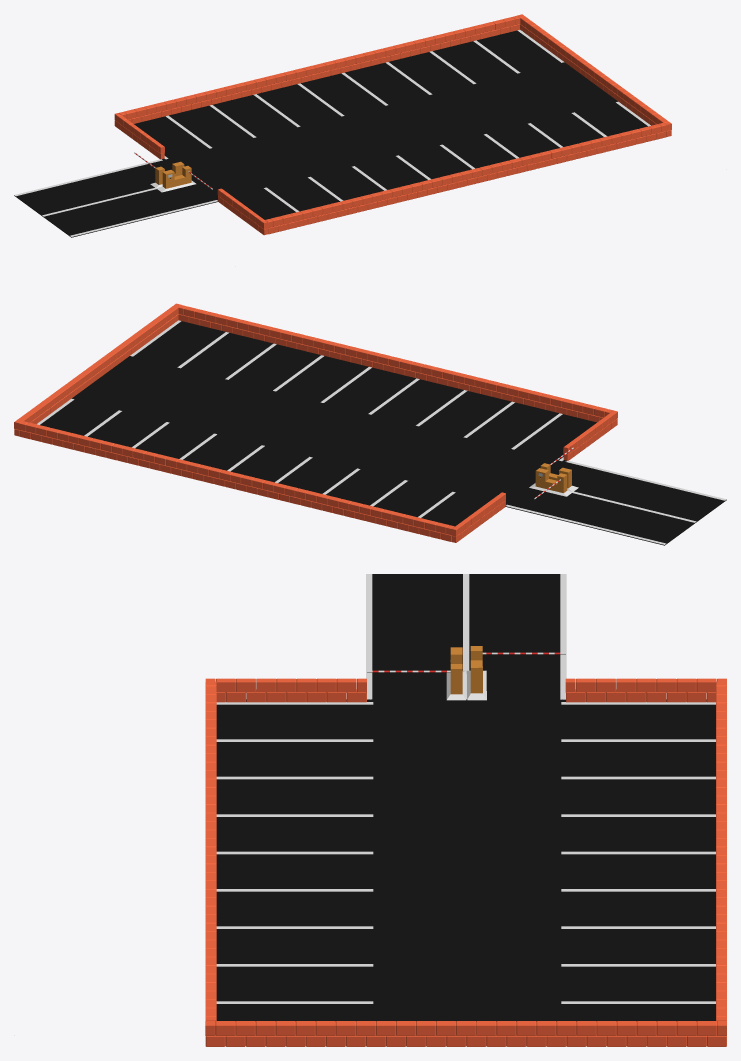
File: ParqueEstacionamento.fbx
The picture shows the model from 3 angles, top to bottom: view 1: azimuth 30°, elevation 25°; view 2: azimuth 150°, elevation 25°; view 3: azimuth 270°, elevation 25°; orthographic projection. The views are drawn at different scales.
Visible parts, largest first — view 1: Cube, Cube.015, Cube.014, Cube.020, Cube.021, Cube.016, Cube.022, Cube.013, Cube.019, Cube.023; view 2: Cube, Cube.015, Cube.020, Cube.014, Cube.016, Cube.021, Cube.022, Cube.013, Cube.019, Cube.023; view 3: Cube, Cube.015, Cube.022, Cube.013, Cube.014, Cube.020, Cube.019, Cube.023, Cube.024, Cube.018.
Part boxes in pixels (left/top/right/bottom): Cube: left=134, top=30, right=650, bottom=219; Cube.015: left=14, top=159, right=217, bottom=237; Cube.014: left=265, top=122, right=666, bottom=228; Cube.020: left=119, top=15, right=520, bottom=119; Cube.021: left=268, top=131, right=666, bottom=234; Cube.016: left=128, top=24, right=519, bottom=123; Cube.022: left=517, top=14, right=671, bottom=130; Cube.013: left=520, top=24, right=671, bottom=136; Cube.019: left=114, top=113, right=164, bottom=153; Cube.023: left=217, top=188, right=267, bottom=229; Cube: left=37, top=320, right=596, bottom=526; Cube.015: left=505, top=460, right=726, bottom=545; Cube.020: left=20, top=421, right=454, bottom=535; Cube.014: left=178, top=305, right=613, bottom=417; Cube.016: left=20, top=430, right=451, bottom=541; Cube.021: left=178, top=314, right=603, bottom=422; Cube.022: left=14, top=303, right=181, bottom=429; Cube.013: left=14, top=314, right=178, bottom=436; Cube.019: left=451, top=492, right=505, bottom=536; Cube.023: left=563, top=410, right=617, bottom=454; Cube: left=216, top=699, right=715, bottom=1021; Cube.015: left=366, top=574, right=566, bottom=699; Cube.022: left=205, top=1021, right=726, bottom=1035; Cube.013: left=205, top=1035, right=726, bottom=1046; Cube.014: left=205, top=681, right=216, bottom=1021; Cube.020: left=716, top=681, right=726, bottom=1020; Cube.019: left=565, top=678, right=726, bottom=692; Cube.023: left=205, top=678, right=366, bottom=692; Cube.024: left=216, top=689, right=366, bottom=702; Cube.018: left=566, top=689, right=715, bottom=702.
Bounding box in the file's own units: 11142 × 320 × 7114.
